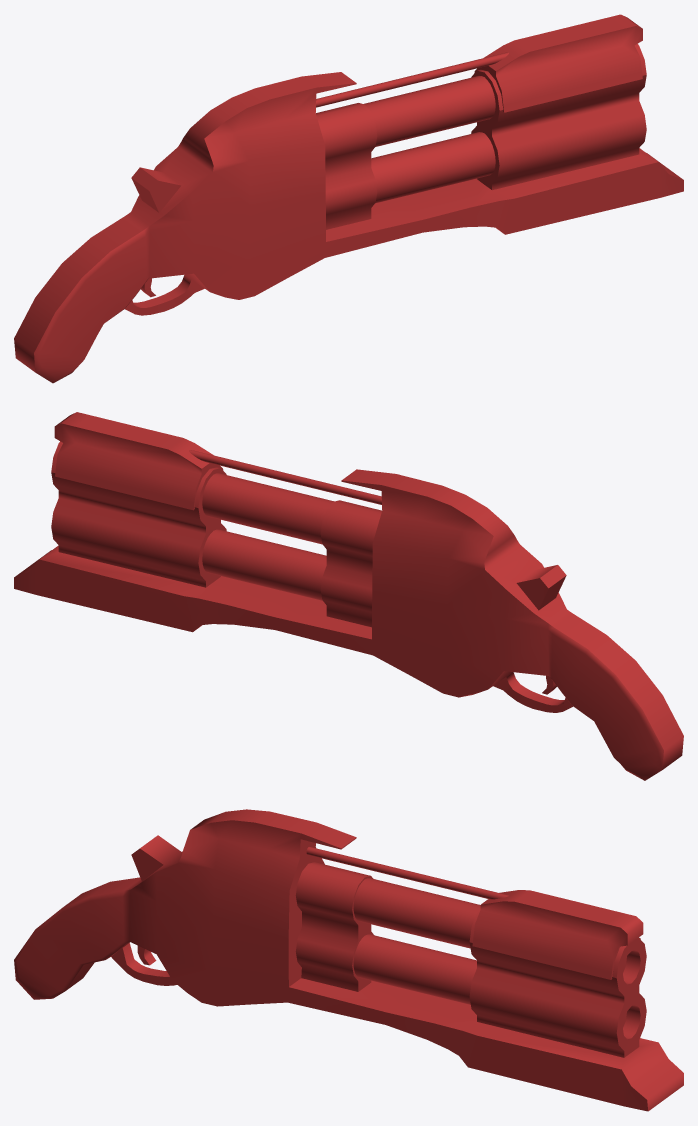
The model's file is izlar_LP.fbx.
The picture shows the model from 3 angles, top to bottom: view 1: azimuth 30°, elevation 25°; view 2: azimuth 150°, elevation 25°; view 3: azimuth 330°, elevation 25°; orthographic projection.
Visible parts, largest first — view 1: unwrap_LP; view 2: unwrap_LP; view 3: unwrap_LP.
Part boxes in pixels (x1,y1,x2,y2): unwrap_LP: (14, 14, 683, 383); unwrap_LP: (14, 412, 683, 780); unwrap_LP: (14, 809, 683, 1111).
Bounding box in the file's own units: 39.71 × 13.57 × 4.02.
